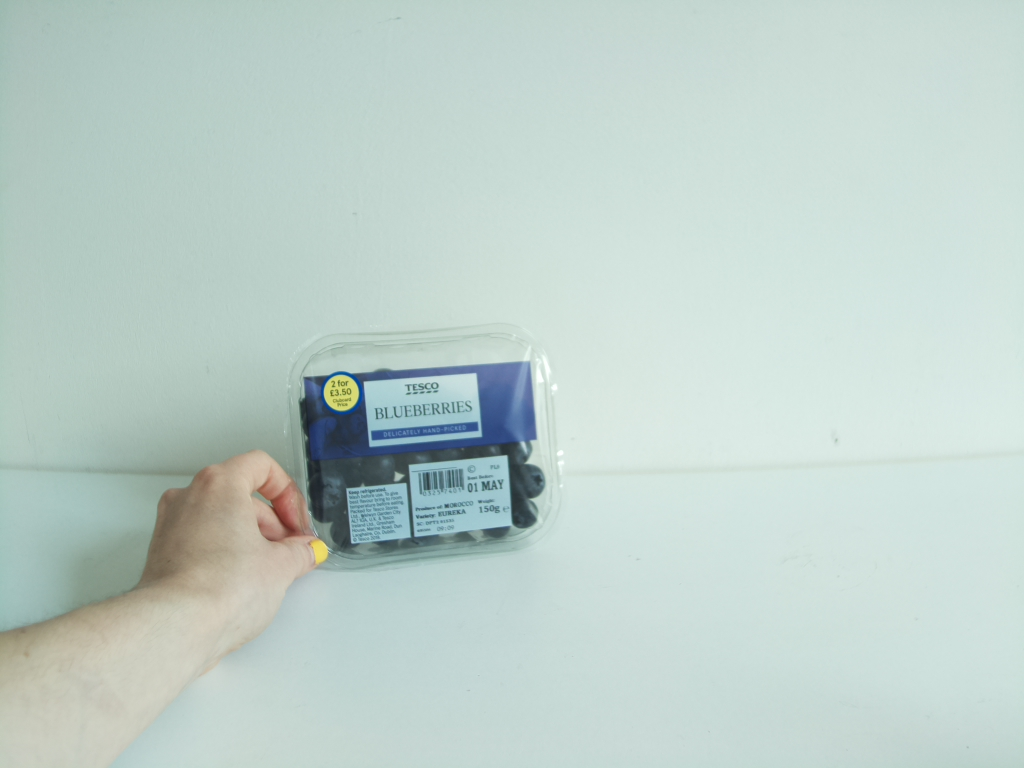soft-fruit: (284, 328, 577, 575)
